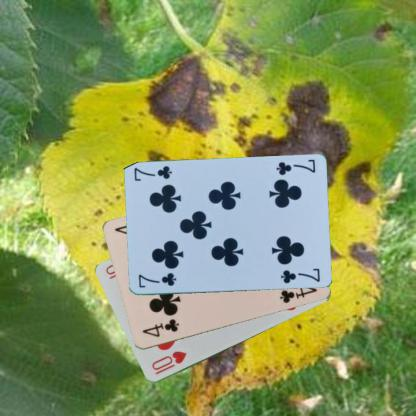10h: (149, 348, 188, 377)
4c: (140, 316, 180, 339)
7c: (273, 157, 317, 177), (136, 271, 178, 290)
